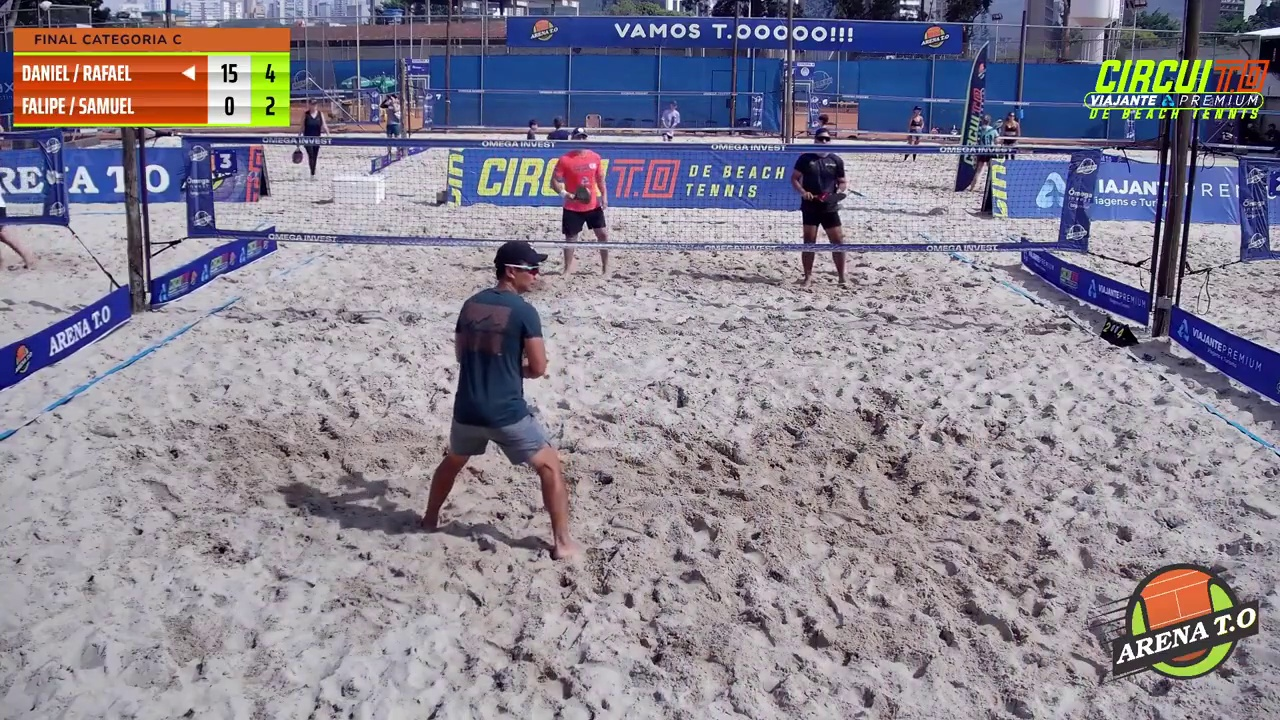court_line: (636, 0, 802, 355)
